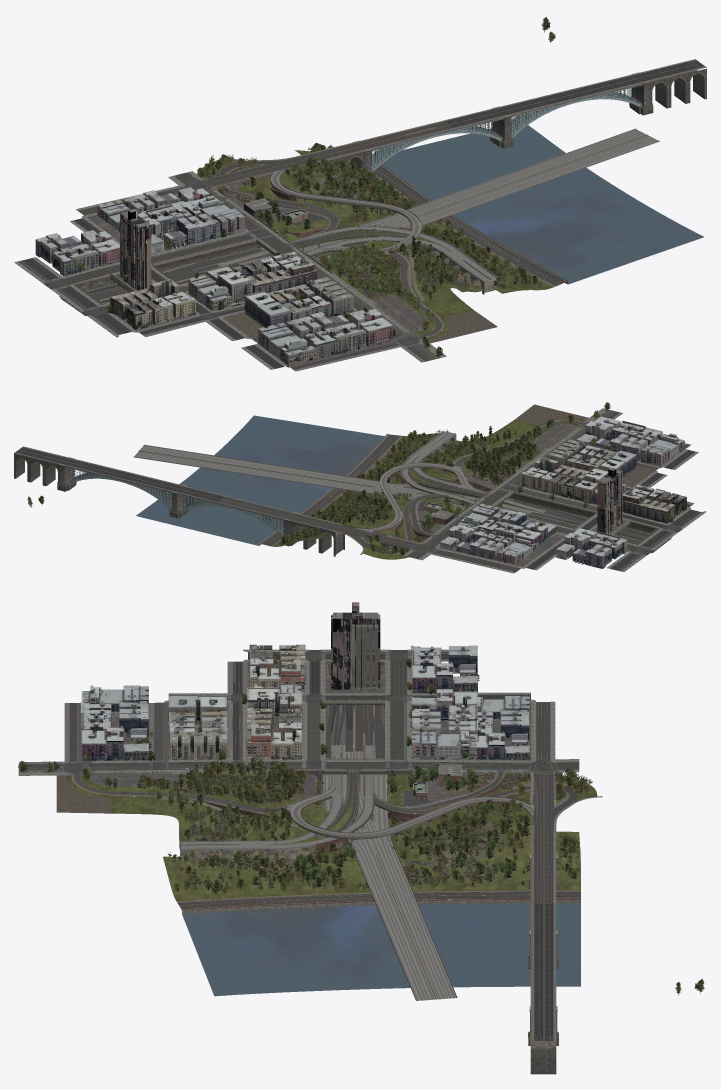
The picture shows the model from 3 angles, top to bottom: view 1: azimuth 30°, elevation 25°; view 2: azimuth 150°, elevation 25°; view 3: azimuth 270°, elevation 25°; orthographic projection. The views are drawn at different scales.
Parts seen in each view (by area): view 1: gds.142, gds.036, gds.001, gds.023, gds.015, gds.019, gds.044, gds.029, gds.024, gds.010, gds.038, gds.022 (+15 smaller); view 2: gds.142, gds.036, gds.001, gds.015, gds.023, gds.044, gds.019, gds.029, gds.024, gds.035, gds.010, gds.022 (+18 smaller); view 3: gds.142, gds.001, gds.019, gds.036, gds.023, gds.015, gds.029, gds.044, gds.010, gds.022, gds.024, gds.011 (+12 smaller).
Boxes of the visible parts, bbox=[...] form: gds.142: bbox=[382, 125, 703, 284]; gds.036: bbox=[35, 187, 392, 367]; gds.001: bbox=[76, 17, 555, 356]; gds.023: bbox=[18, 121, 565, 369]; gds.015: bbox=[211, 129, 658, 281]; gds.019: bbox=[197, 150, 553, 358]; gds.044: bbox=[110, 251, 318, 329]; gds.029: bbox=[14, 66, 704, 369]; gds.024: bbox=[21, 60, 704, 368]; gds.010: bbox=[74, 59, 706, 371]; gds.038: bbox=[244, 277, 353, 327]; gds.022: bbox=[142, 63, 700, 360]; gds.142: bbox=[136, 415, 384, 545]; gds.036: bbox=[440, 416, 684, 568]; gds.001: bbox=[27, 402, 677, 556]; gds.015: bbox=[134, 431, 545, 532]; gds.023: bbox=[218, 411, 701, 571]; gds.044: bbox=[521, 457, 686, 523]; gds.019: bbox=[271, 409, 608, 559]; gds.029: bbox=[23, 408, 706, 573]; gds.024: bbox=[15, 447, 698, 570]; gds.035: bbox=[14, 426, 579, 556]; gds.010: bbox=[14, 412, 694, 554]; gds.022: bbox=[18, 410, 692, 546]; gds.142: bbox=[182, 903, 580, 996]; gds.001: bbox=[18, 654, 704, 995]; gds.019: bbox=[18, 771, 597, 901]; gds.036: bbox=[80, 645, 529, 762]; gds.023: bbox=[18, 652, 580, 908]; gds.015: bbox=[180, 745, 533, 1000]; gds.029: bbox=[18, 649, 579, 1040]; gds.044: bbox=[246, 644, 305, 759]; gds.010: bbox=[19, 661, 602, 1040]; gds.022: bbox=[18, 661, 580, 1040]; gds.024: bbox=[169, 653, 553, 1040]; gds.011: bbox=[77, 661, 556, 841].
Size of the model in its own units: 1036 by 146 by 776.
46 materials, 46 textured.
